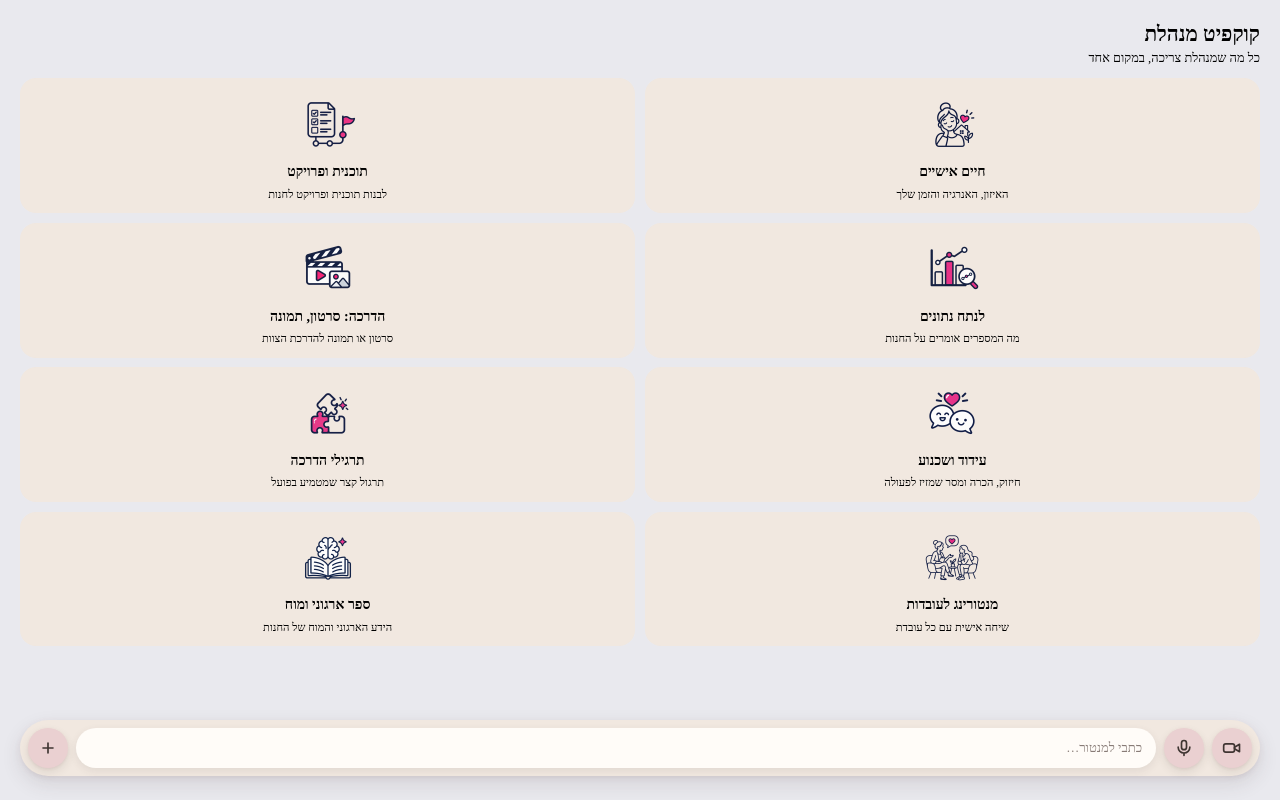
the cockpit › admits the mentor is not connected instead of ignoring a press
Click the button named "הקלטה קולית".
click(1184, 748)  # box 1164,728 -> 1204,768
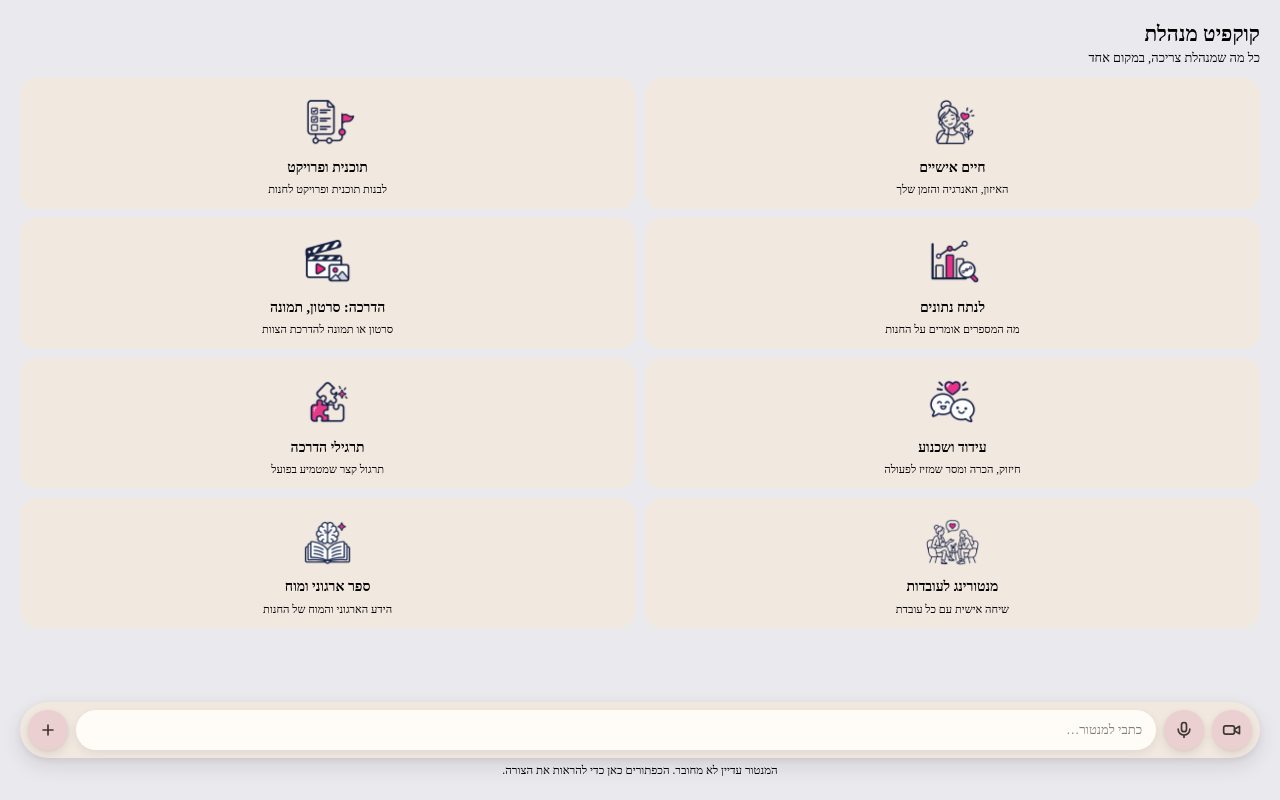
expect the message shows "המנטור עדיין לא מחובר": met, box 502,764 -> 778,776
